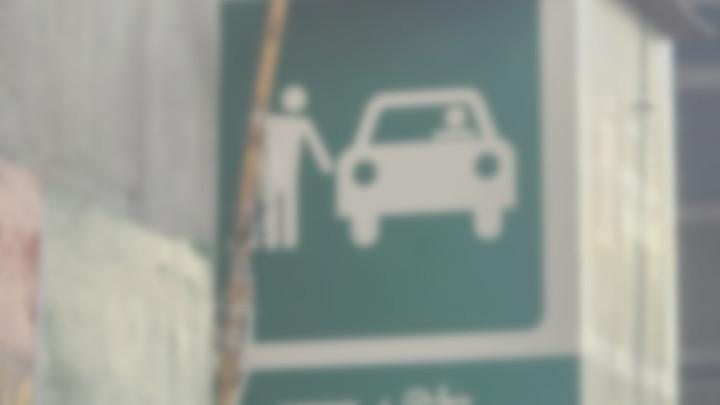Metro Dorp Up Pick up: (209, 0, 680, 405)
